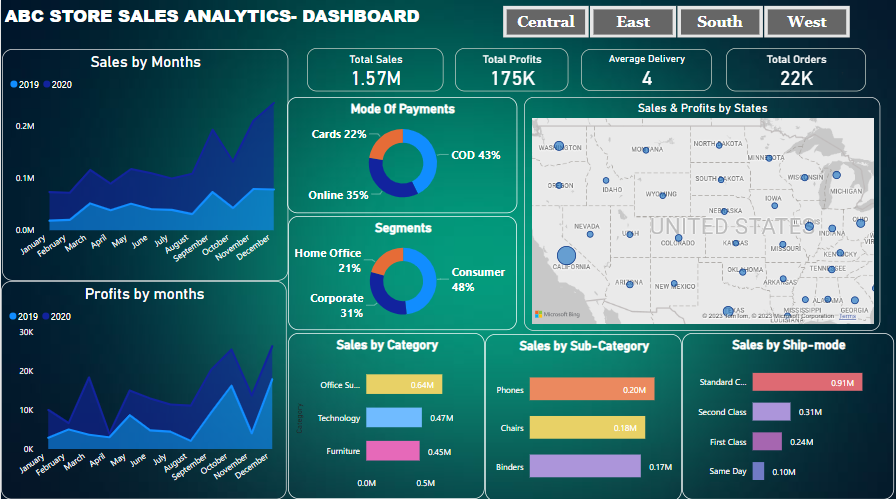

This screenshot's page, from the dashboard's own definition file:
{"tool":"powerbi","page":{"name":"ABC Store Dashboard ","canvas":[1280,720],"ordinal":0},"visuals":[{"type":"clusteredBarChart","title":"Sales by Category","fields":{"Y":["Sum(SuperStore_Sales_Dataset.Sales)"],"Category":["SuperStore_Sales_Dataset.Category"]},"box":[410,475.7,281.4,237.1],"z":0},{"type":"clusteredBarChart","title":"Sales by Sub-Category","fields":{"Y":["Sum(SuperStore_Sales_Dataset.Sales)"],"Category":["SuperStore_Sales_Dataset.Sub-Category"]},"box":[691.4,477.1,281.4,238.6],"z":1},{"type":"clusteredBarChart","title":"Sales by Ship-mode","fields":{"Y":["Sum(SuperStore_Sales_Dataset.Sales)"],"Category":["SuperStore_Sales_Dataset.Ship Mode"]},"box":[973.3,475,303.3,238.3],"z":2},{"type":"stackedAreaChart","title":" Sales by Months","fields":{"Category":["SuperStore_Sales_Dataset.Order Date.Variation.Date Hierarchy.Month"],"Y":["Sum(SuperStore_Sales_Dataset.Sales)"],"Series":["SuperStore_Sales_Dataset.Order Date.Variation.Date Hierarchy.Year"]},"box":[1.4,70,408.6,331.4],"z":3},{"type":"stackedAreaChart","title":"Profits by months","fields":{"Category":["SuperStore_Sales_Dataset.Order Date.Variation.Date Hierarchy.Month"],"Series":["SuperStore_Sales_Dataset.Order Date.Variation.Date Hierarchy.Year"],"Y":["Sum(SuperStore_Sales_Dataset.Profit)"]},"box":[0,401.7,408.3,311.7],"z":4},{"type":"map","title":"Sales & Profits by States","fields":{"Category":["SuperStore_Sales_Dataset.State"],"Size":["Sum(SuperStore_Sales_Dataset.Sales)"]},"box":[747.1,138.6,508.6,334.3],"z":5},{"type":"slicer","fields":{"Values":["SuperStore_Sales_Dataset.Region"]},"box":[691.7,1.7,545,51.7],"z":6},{"type":"textbox","box":[0,0,631.7,66.7],"z":7},{"type":"donutChart","title":"Segments","fields":{"Y":["Sum(SuperStore_Sales_Dataset.Sales)"],"Category":["SuperStore_Sales_Dataset.Segment"]},"box":[410,308.6,327.1,162.9],"z":8},{"type":"donutChart","title":"Mode Of Payments","fields":{"Y":["Sum(SuperStore_Sales_Dataset.Sales)"],"Category":["SuperStore_Sales_Dataset.Payment Mode"]},"box":[408.6,138.6,328.6,165.7],"z":9},{"type":"card","title":"Total Sales","fields":{"Values":["Sum(SuperStore_Sales_Dataset.Sales)"]},"box":[436.7,68.3,195,61.7],"z":10},{"type":"card","title":"Average Delivery ","fields":{"Values":["Avg(SuperStore_Sales_Dataset.AvgDelivery)"]},"box":[828.3,70,186.7,60],"z":11},{"type":"card","title":"Total Profits","fields":{"Values":["Sum(SuperStore_Sales_Dataset.Profit)"]},"box":[648.3,68.3,161.7,61.7],"z":12},{"type":"slicer","fields":{"Values":["SuperStore_Sales_Dataset.Customer ID"]},"box":[1195,98.3,13.3,13.3],"z":13},{"type":"card","title":"Total  Orders","fields":{"Values":["Sum(SuperStore_Sales_Dataset.Quantity)"]},"box":[1035,68.3,200,61.7],"z":14}]}

Visuals, with their boxes in screenshot pixels (x1, y1, x2, y2), scaled from the page's 1280x720 canvas onto the 896x499 screenshot:
"Sales by Category" clusteredBarChart: 287 330 484 494
"Sales by Sub-Category" clusteredBarChart: 484 331 681 496
"Sales by Ship-mode" clusteredBarChart: 681 329 894 494
" Sales by Months" stackedAreaChart: 1 49 287 278
"Profits by months" stackedAreaChart: 0 278 286 494
"Sales & Profits by States" map: 523 96 879 328
slicer - SuperStore_Sales_Dataset.Region: 484 1 866 37
textbox: 0 0 442 46
"Segments" donutChart: 287 214 516 327
"Mode Of Payments" donutChart: 286 96 516 211
"Total Sales" card: 306 47 442 90
"Average Delivery " card: 580 49 710 90
"Total Profits" card: 454 47 567 90
slicer - SuperStore_Sales_Dataset.Customer ID: 836 68 846 77
"Total  Orders" card: 724 47 864 90
